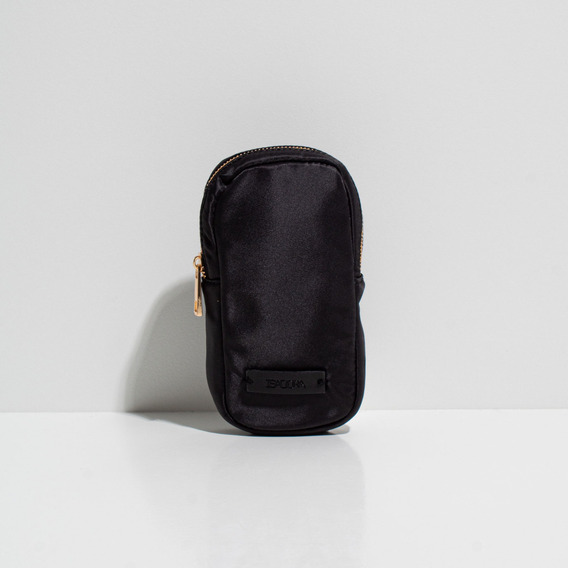cartera: (194, 144, 369, 436)
